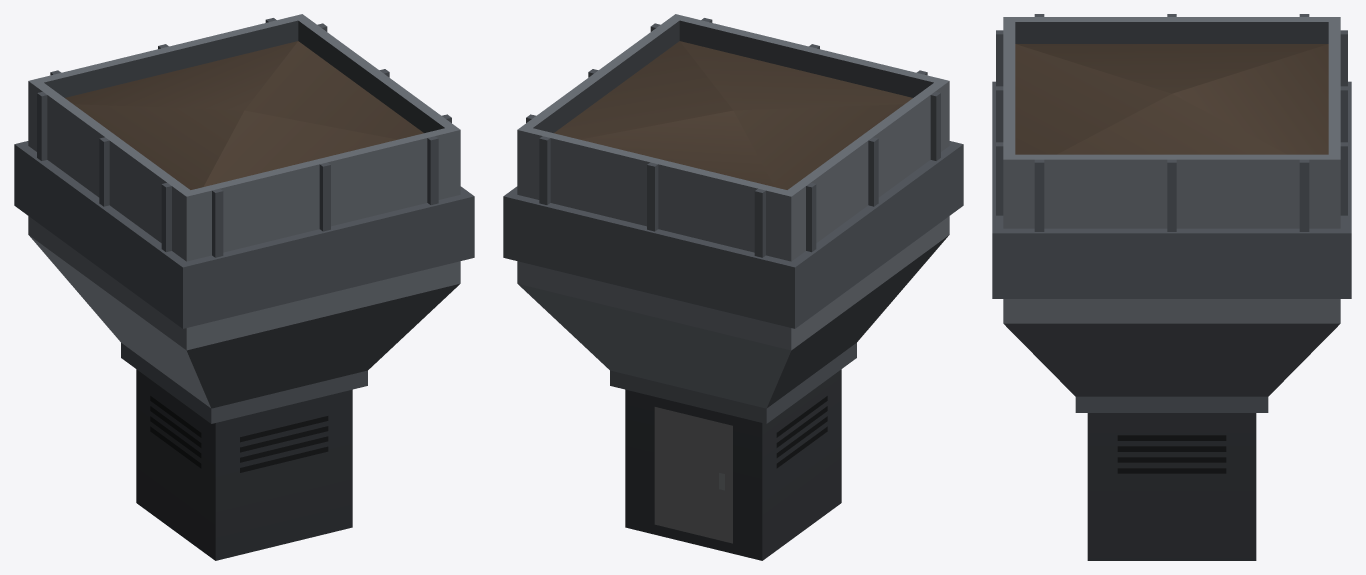
Rendered from hopper.tall.grey.glb.
The picture shows the model from 3 angles, left to right: view 1: azimuth 30°, elevation 25°; view 2: azimuth 150°, elevation 25°; view 3: azimuth 270°, elevation 25°; orthographic projection. The views are drawn at different scales.
Visible parts, largest first — view 1: hopper_tall_grey; view 2: hopper_tall_grey; view 3: hopper_tall_grey.
Boxes of the visible parts, x1,y1,x2,y2 form: hopper_tall_grey: (14,14,474,560); hopper_tall_grey: (503,14,963,560); hopper_tall_grey: (992,14,1351,560).
Size of what is drawn, in the model's own units: 2.98 by 4 by 2.98.
